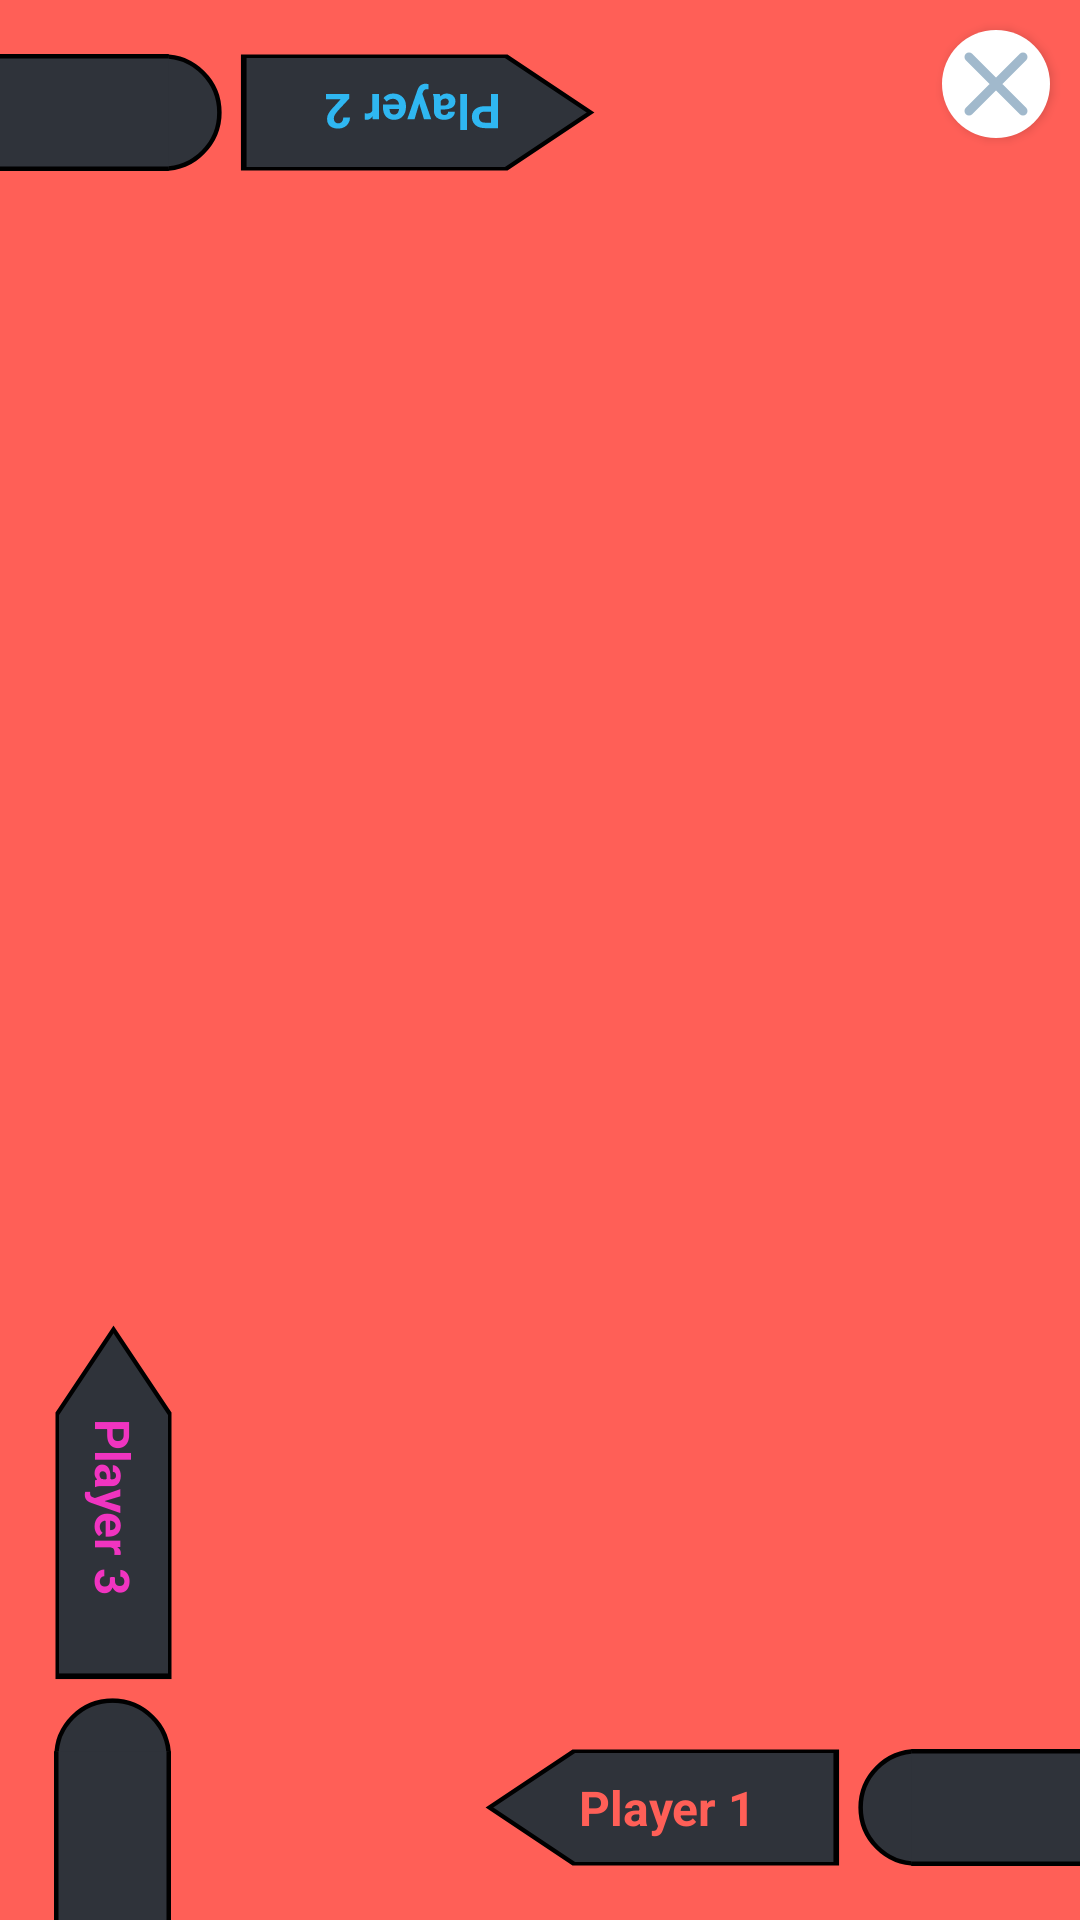

Named icons in this screenshot (1080 × 1920) and their centers, (x,y):
xback: (996,84)
